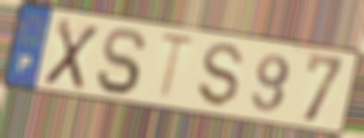7: (304, 50, 346, 127)
9: (249, 53, 293, 114)
S: (93, 26, 150, 97), (197, 41, 246, 110)
T: (155, 30, 199, 105)
X: (41, 16, 102, 93)
